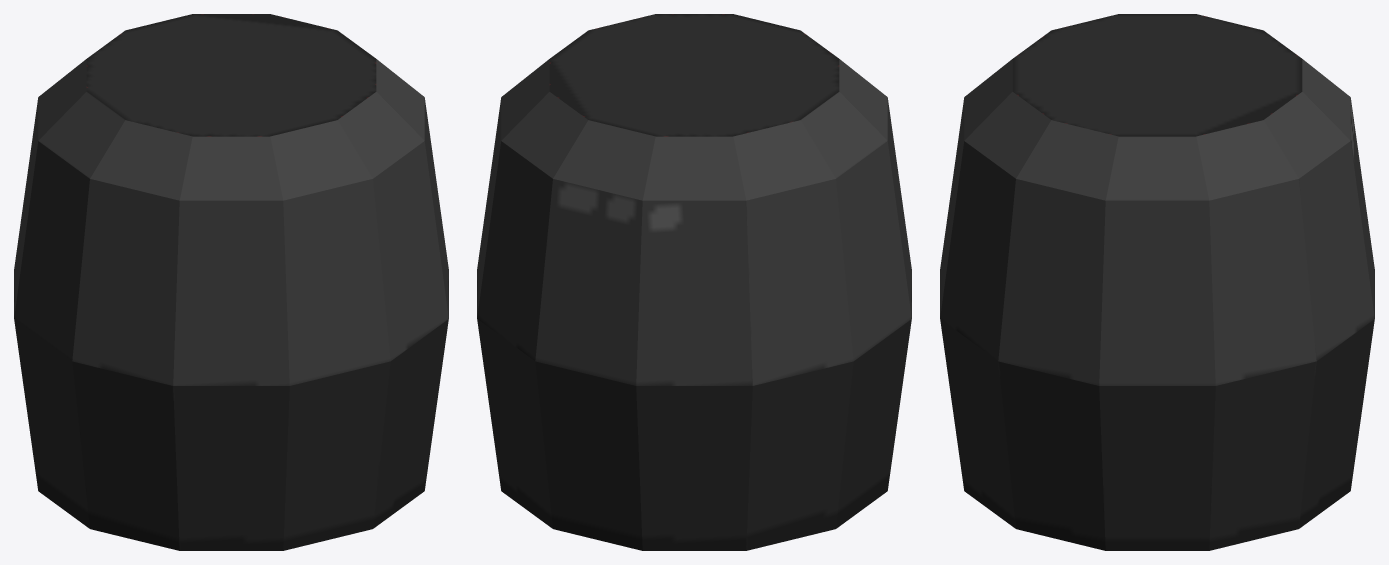
File: water_butt_blue.fbx
The picture shows the model from 3 angles, left to right: view 1: azimuth 30°, elevation 25°; view 2: azimuth 150°, elevation 25°; view 3: azimuth 270°, elevation 25°; orthographic projection.
Visible parts, largest first — view 1: cylinder; view 2: cylinder; view 3: cylinder.
Boxes of the visible parts, x1=… form: cylinder: x1=14, y1=14, x2=448, y2=550; cylinder: x1=477, y1=14, x2=911, y2=550; cylinder: x1=940, y1=14, x2=1374, y2=550.
Size of the model in its own units: 112 by 112 by 112.
Materials: 1 (1 with a texture image).
